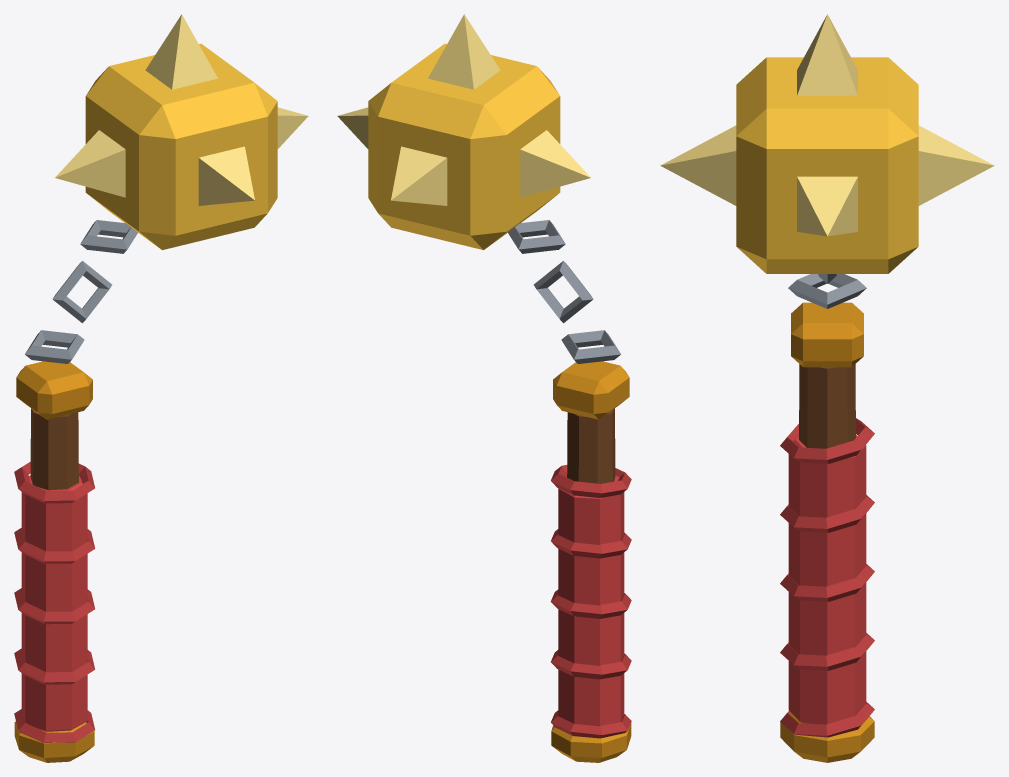
Rendered from GoldFlail.fbx.
3 views of the same model, side by side, from view 1: azimuth 30°, elevation 25°; view 2: azimuth 150°, elevation 25°; view 3: azimuth 270°, elevation 25° (orthographic). The views are drawn at different scales.
Parts seen in each view (by area): view 1: GoldFlail; view 2: GoldFlail; view 3: GoldFlail.
Part boxes in pixels (left/top/right/bottom): GoldFlail: left=14, top=14, right=308, bottom=762; GoldFlail: left=337, top=14, right=631, bottom=762; GoldFlail: left=660, top=14, right=994, bottom=762.
Size of the model in its own units: 1.26 by 2.92 by 1.1.
Materials: 1 (1 with a texture image).
